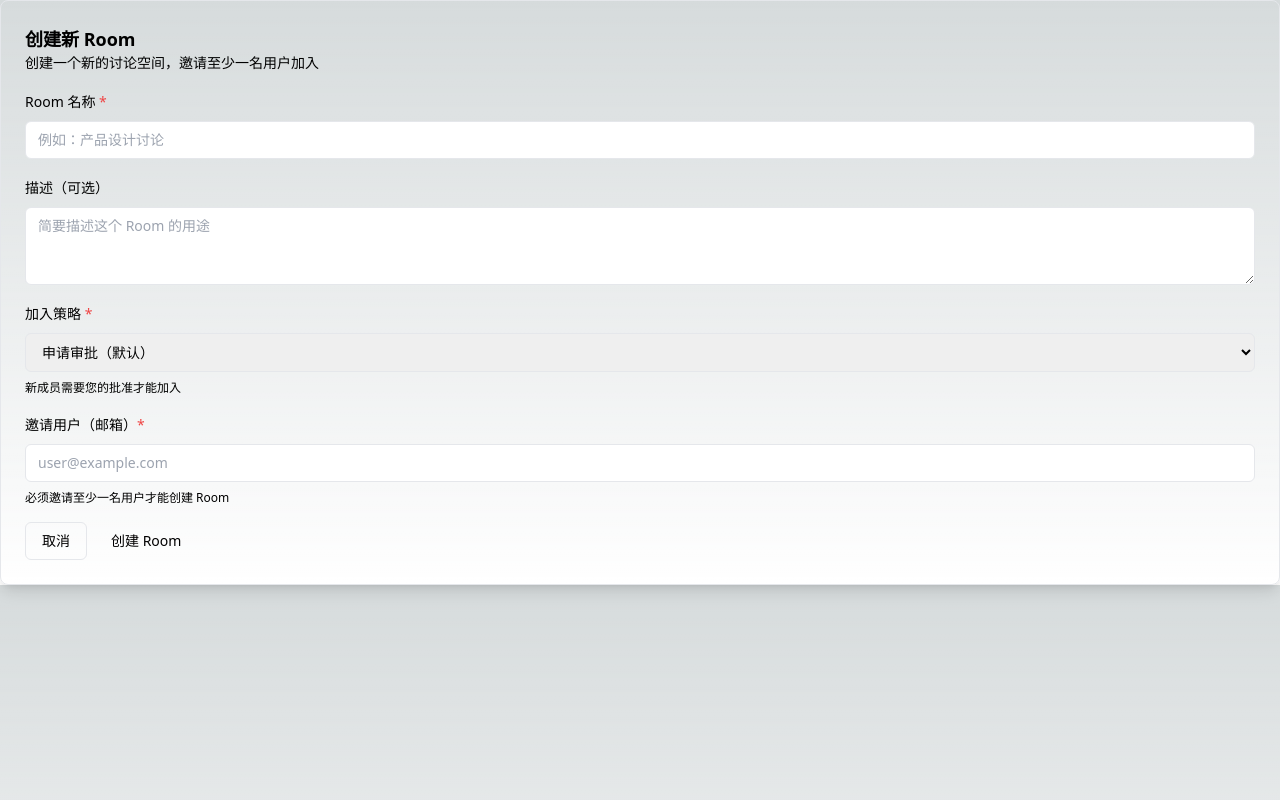
Test: Room Creation Integration › Form validation (需求 3.1, 3.2, 3.3) › should clear error when user starts typing
Click the button "创建 Room".
click(146, 541)  # box [95,522,197,560]
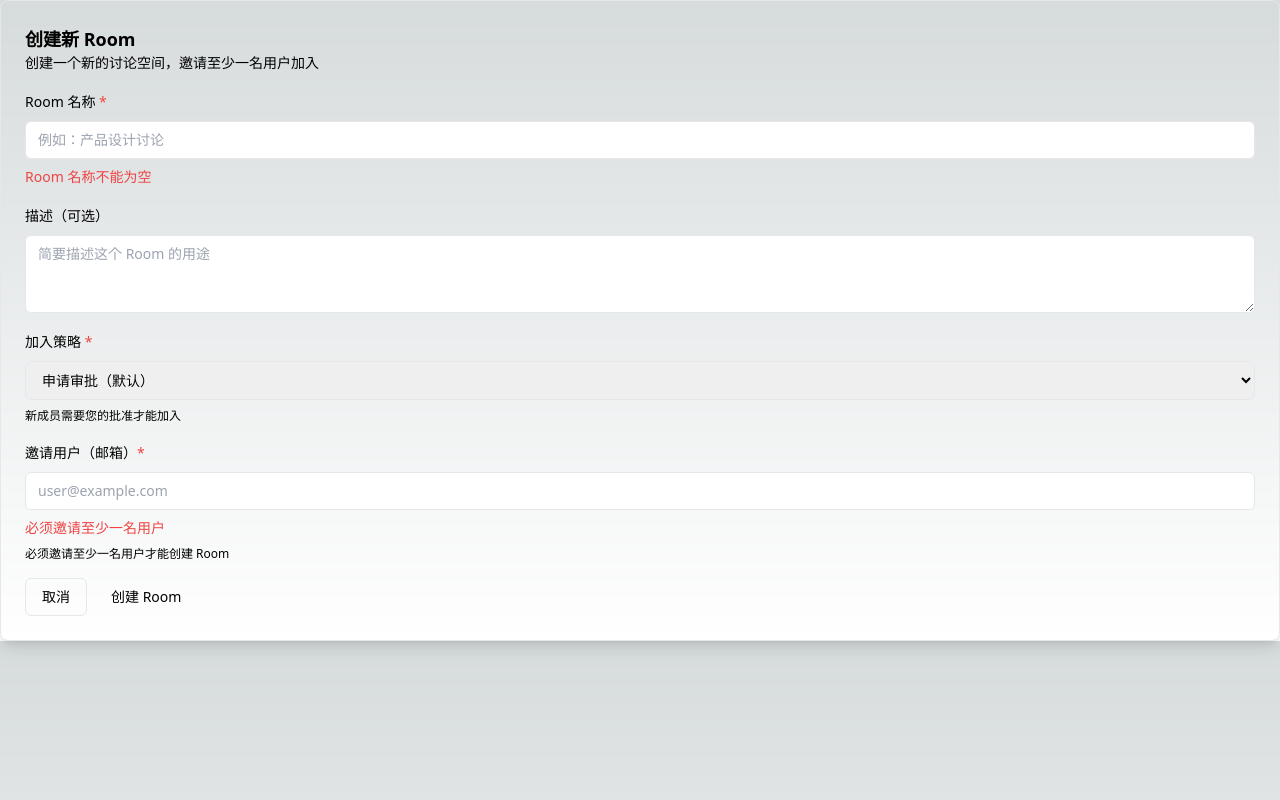
Expected: the text "Room 名称不能为空" is shown, [25,167,151,186]
Type "Test Room" into the field labelled "Room 名称 *".
click(640, 140); type("Test Room")  # box [25,121,1255,159]
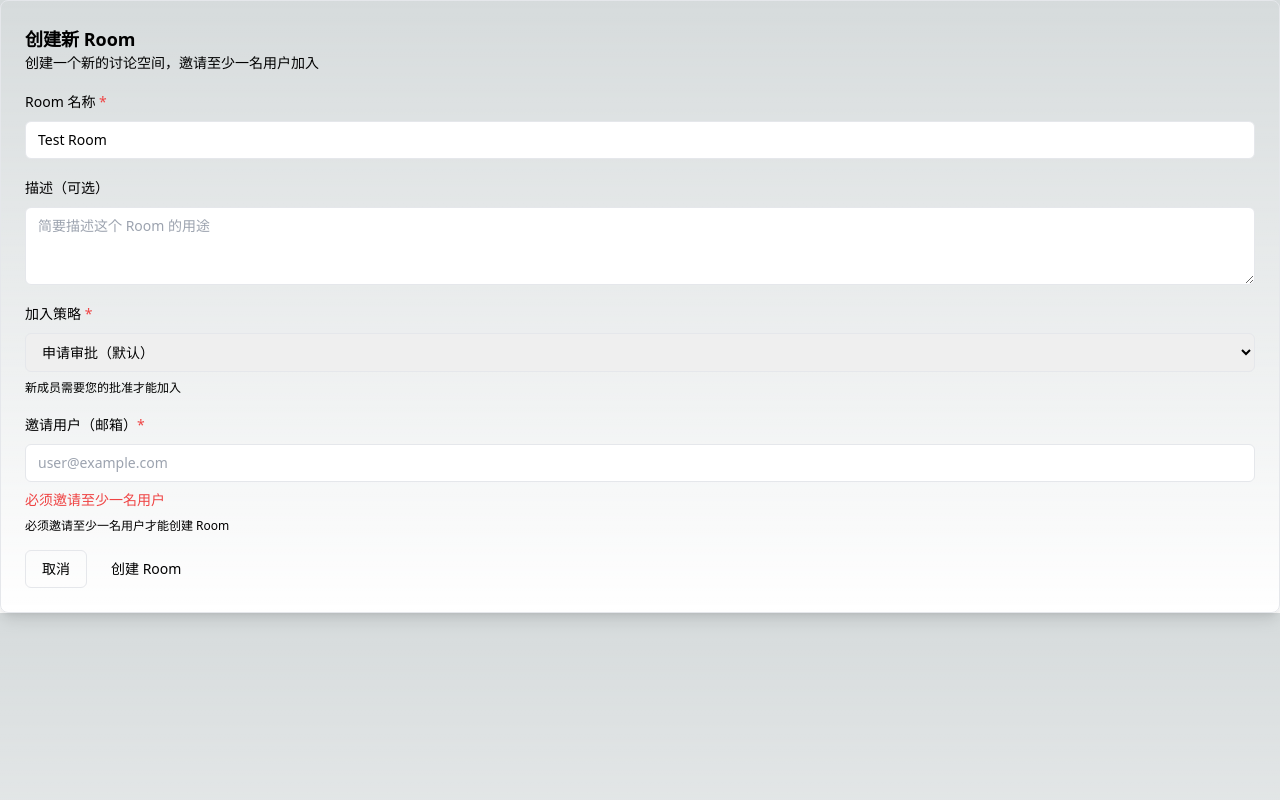
Expected: the text "Room 名称不能为空" is gone
